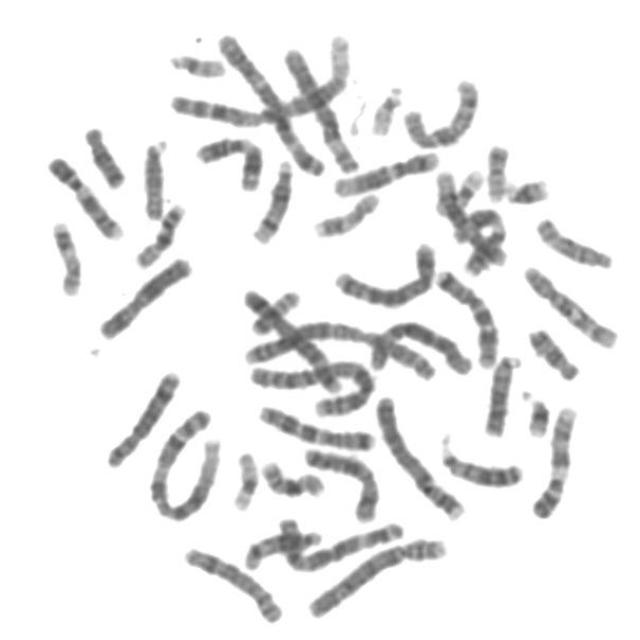A1: (165, 28, 356, 130), (143, 400, 225, 524)
A2: (235, 313, 453, 382), (244, 352, 380, 419)
A3: (211, 26, 330, 179), (272, 510, 408, 573)
B4: (301, 529, 451, 621), (370, 387, 470, 522)
B5: (328, 233, 442, 310), (435, 169, 510, 265)
C10: (518, 256, 623, 351), (396, 69, 485, 150)
C11: (190, 127, 267, 192), (455, 200, 510, 274)
C12: (430, 163, 510, 269), (328, 142, 444, 198)
C6: (277, 38, 364, 175), (362, 312, 477, 378)
C7: (429, 260, 505, 370), (251, 398, 379, 452)
C8: (178, 540, 288, 626), (99, 362, 185, 471)
C9: (41, 147, 128, 242), (527, 398, 583, 520)
D13: (434, 427, 528, 491), (478, 346, 526, 438)
D14: (246, 151, 297, 246), (239, 523, 326, 571)
D15: (531, 209, 619, 271), (137, 130, 173, 222)
E16: (130, 195, 190, 269), (256, 453, 328, 500)
E17: (308, 184, 384, 240), (46, 212, 86, 298)
E18: (523, 319, 585, 382), (77, 118, 130, 190)
F19: (430, 161, 489, 217), (226, 443, 263, 514)
F20: (245, 283, 303, 337), (480, 137, 514, 202)
G21: (498, 170, 554, 207), (518, 382, 554, 438)
G22: (365, 77, 409, 137), (164, 44, 230, 80)
X: (92, 247, 197, 342), (298, 440, 384, 524)
